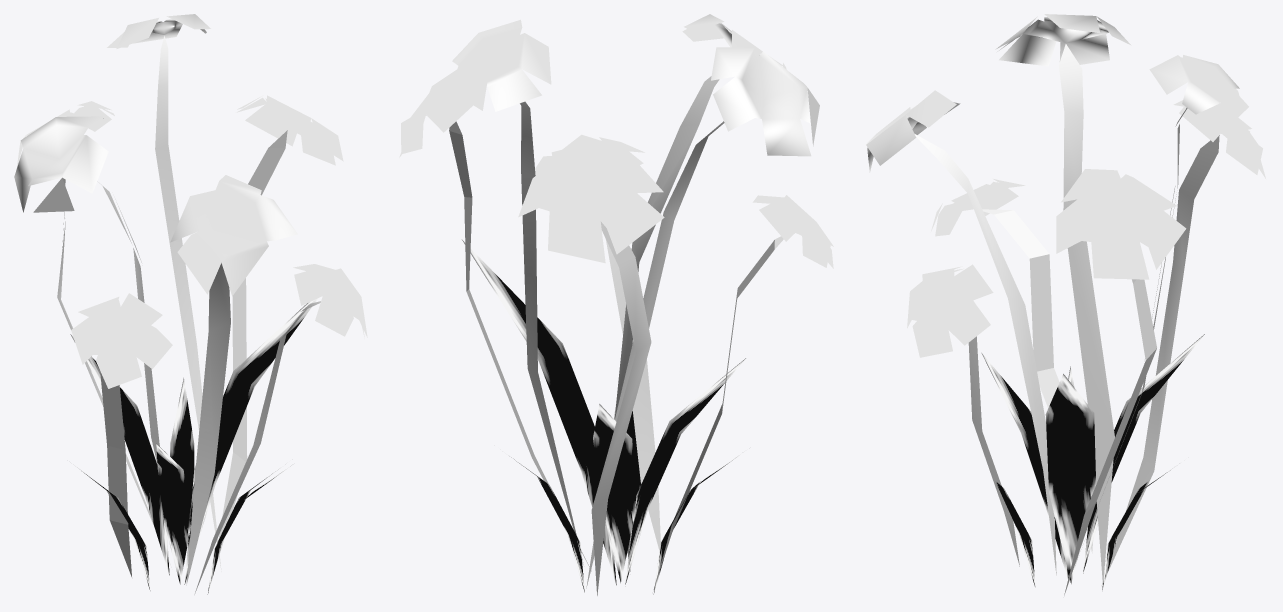
File: Flowers 2,3,5.glb
3 renders of one model, left to right at view 1: azimuth 30°, elevation 25°; view 2: azimuth 150°, elevation 25°; view 3: azimuth 270°, elevation 25°, orthographic. The views are drawn at different scales.
Visible parts, largest first — view 1: flower_2, flower_3, grass_tuft_b, flower_5; view 2: flower_2, flower_5, grass_tuft_b, flower_3; view 3: flower_2, flower_3, flower_5, grass_tuft_b.
Part boxes in pixels (x1,y1,x2,y2): flower_2: [14, 14, 297, 585]; flower_3: [71, 95, 343, 578]; grass_tuft_b: [70, 298, 317, 594]; flower_5: [16, 101, 367, 594]; flower_2: [450, 14, 819, 588]; flower_5: [518, 125, 698, 595]; grass_tuft_b: [462, 240, 746, 594]; flower_3: [399, 69, 833, 589]; flower_2: [866, 14, 1248, 583]; flower_3: [931, 169, 1186, 595]; flower_5: [907, 100, 1265, 585]; grass_tuft_b: [981, 334, 1204, 590].
Bounding box in the file's own units: 0.2124 × 0.3215 × 0.2146.
Materials: 3 (1 with a texture image).
